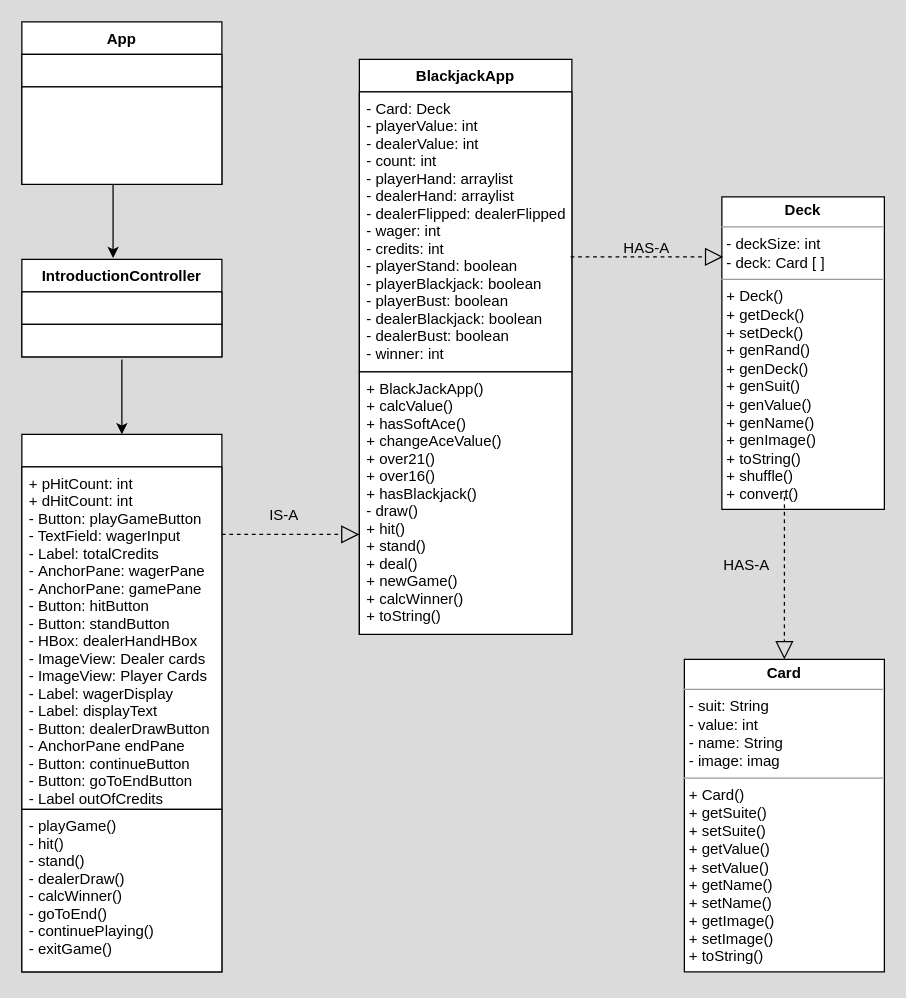
Image size: 906x998. Some labels were removed from this diagram. The box of each missing label's shape, as (x1, y1, x2, y2) in pixels:
+ start() + setRoot() - loadFXML() + main(): (21, 86, 222, 184)
- Button: continueButton: (21, 291, 222, 324)
- switchToGame(): (21, 323, 222, 357)
-Scene: scene: (21, 53, 222, 87)
GameController: (21, 433, 222, 972)
